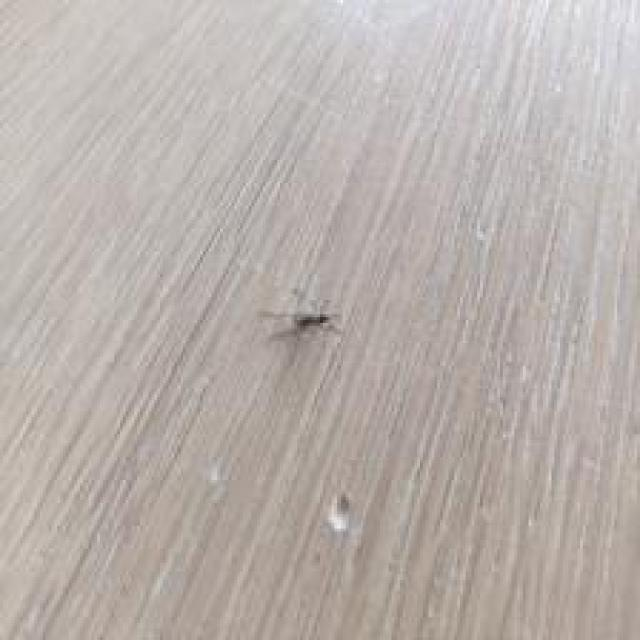Culex: (258, 286, 342, 343)
